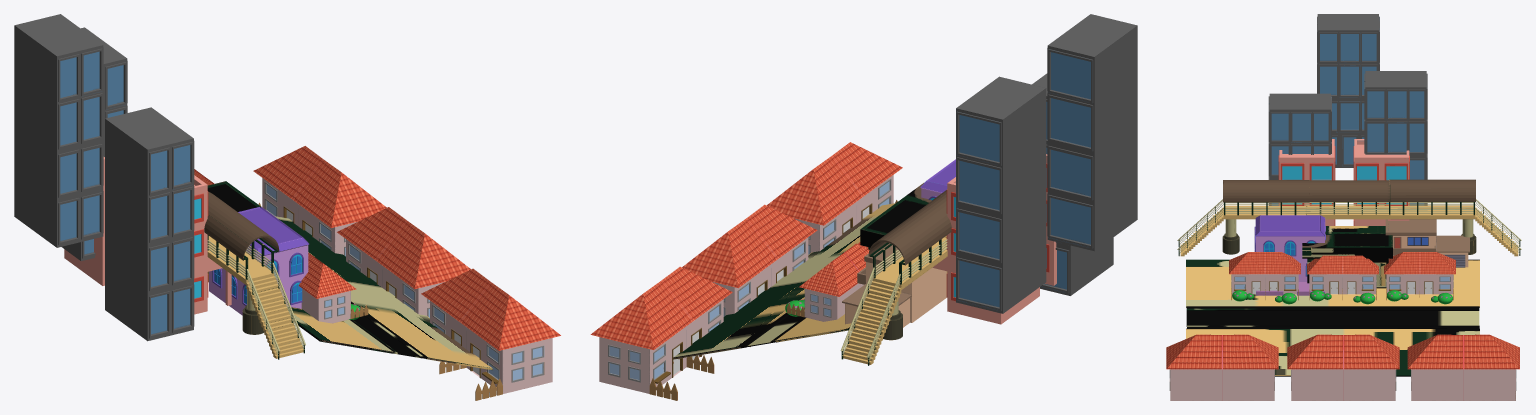
The model's file is menu bg.fbx.
3 views of the same model, side by side, from view 1: azimuth 30°, elevation 25°; view 2: azimuth 150°, elevation 25°; view 3: azimuth 270°, elevation 25° (orthographic). The views are drawn at different scales.
Visible parts, largest first — view 1: HOUSE.005, gray.001, gray, Cube.001, OVERPASS.001, purple.001, gray.002, Fenk.001, Fenk.002, Cube; view 2: HOUSE.005, gray.001, gray.002, OVERPASS, Cube.001, Building4, gray, Fenk.002, Cube, purple.001, Fenk.001; view 3: HOUSE.005, Cube.001, gray.001, gray.002, OVERPASS, OVERPASS.001, gray, GITNA, purple.001, Cube, Building4, Fenk.002 (+2 smaller).
Part boxes in pixels (x1=…): HOUSE.005: x1=194, y1=146, x2=560, y2=400; gray.001: x1=14, y1=14, x2=103, y2=247; gray: x1=105, y1=107, x2=194, y2=341; Cube.001: x1=275, y1=216, x2=492, y2=370; OVERPASS.001: x1=204, y1=192, x2=305, y2=359; purple.001: x1=209, y1=206, x2=308, y2=315; gray.002: x1=62, y1=27, x2=127, y2=261; Fenk.001: x1=194, y1=175, x2=231, y2=314; Fenk.002: x1=64, y1=157, x2=104, y2=285; Cube: x1=207, y1=181, x2=260, y2=282; HOUSE.005: x1=590, y1=142, x2=902, y2=400; gray.001: x1=1047, y1=14, x2=1137, y2=251; gray.002: x1=956, y1=76, x2=1046, y2=313; OVERPASS: x1=840, y1=195, x2=951, y2=365; Cube.001: x1=673, y1=203, x2=895, y2=359; Building4: x1=842, y1=243, x2=946, y2=330; gray: x1=1032, y1=73, x2=1113, y2=295; Fenk.002: x1=932, y1=177, x2=1039, y2=324; Cube: x1=860, y1=183, x2=947, y2=273; purple.001: x1=920, y1=159, x2=955, y2=200; Fenk.001: x1=1045, y1=154, x2=1056, y2=285; HOUSE.005: x1=1166, y1=252, x2=1519, y2=400; Cube.001: x1=1186, y1=259, x2=1479, y2=376; gray.001: x1=1317, y1=14, x2=1379, y2=167; gray.002: x1=1364, y1=71, x2=1427, y2=205; OVERPASS: x1=1389, y1=179, x2=1521, y2=256; OVERPASS.001: x1=1177, y1=180, x2=1310, y2=256; gray: x1=1268, y1=93, x2=1331, y2=205; GITNA: x1=1305, y1=180, x2=1391, y2=219; purple.001: x1=1254, y1=215, x2=1325, y2=295; Cube: x1=1302, y1=226, x2=1392, y2=288; Building4: x1=1385, y1=219, x2=1469, y2=267; Fenk.002: x1=1353, y1=139, x2=1409, y2=225.
Size of the model in its own units: 14856 by 12316 by 15933.
